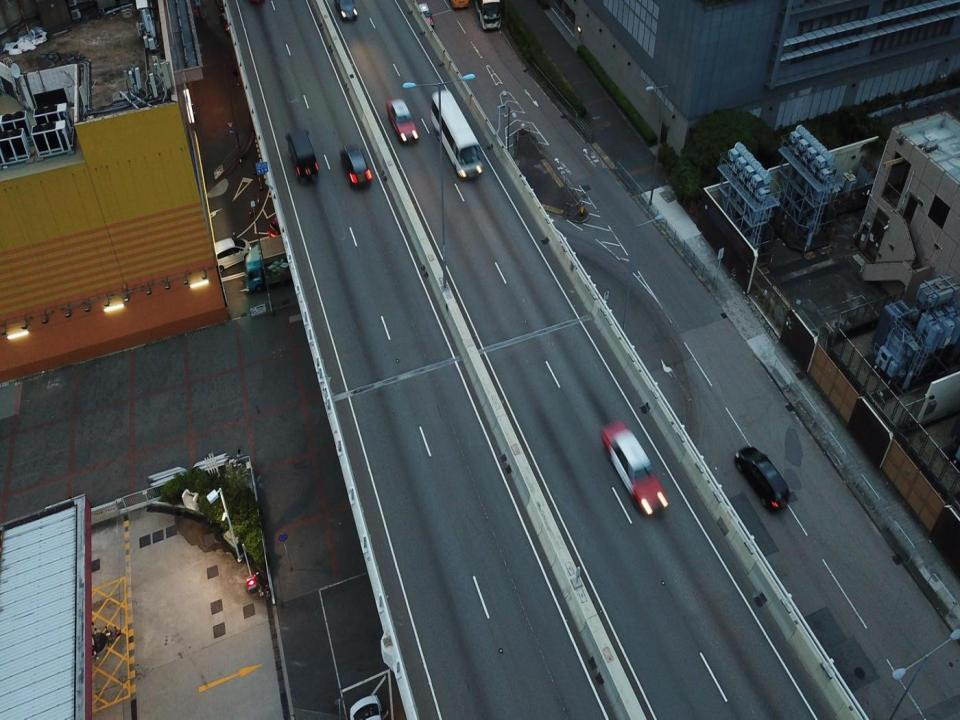bus: (428, 86, 484, 180), (471, 1, 505, 31)
car: (598, 415, 674, 522), (734, 437, 795, 514), (209, 229, 254, 277), (285, 128, 322, 183), (338, 140, 377, 192), (385, 96, 421, 145), (342, 688, 386, 719), (262, 208, 305, 238), (332, 4, 364, 21)
truck: (237, 242, 334, 298)
